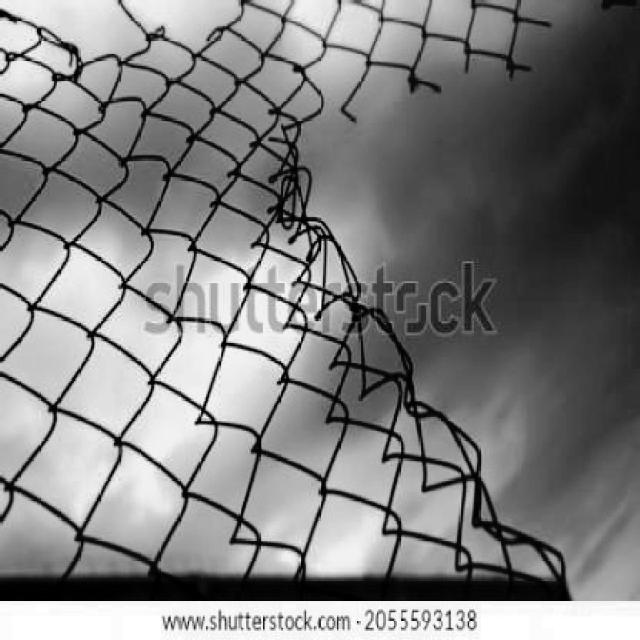anomaly-fence: (269, 11, 640, 604), (0, 0, 230, 95)
